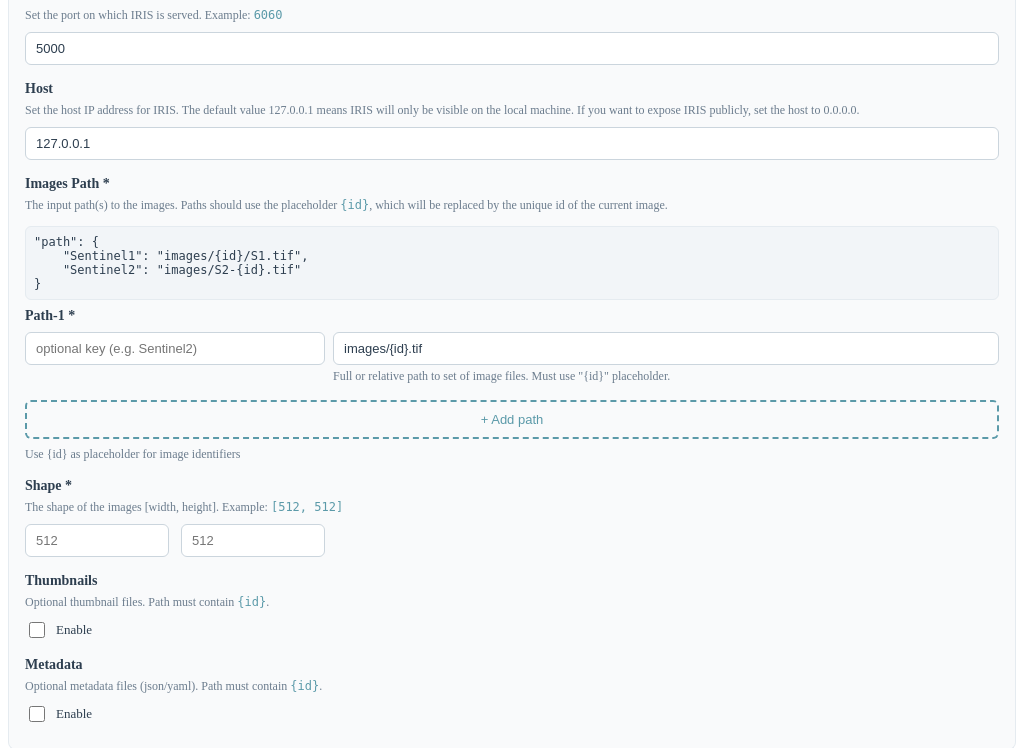
it: GeneralSection › Thumbnails toggle › shows input field when checkbox is checked
(page scrolled)
Expected: the field with placeholder "thumbnails/{id}.png" is not shown
Click the checkbox labelled "Enable" below "Thumbnails" at (37, 630), box [29,622,45,638]
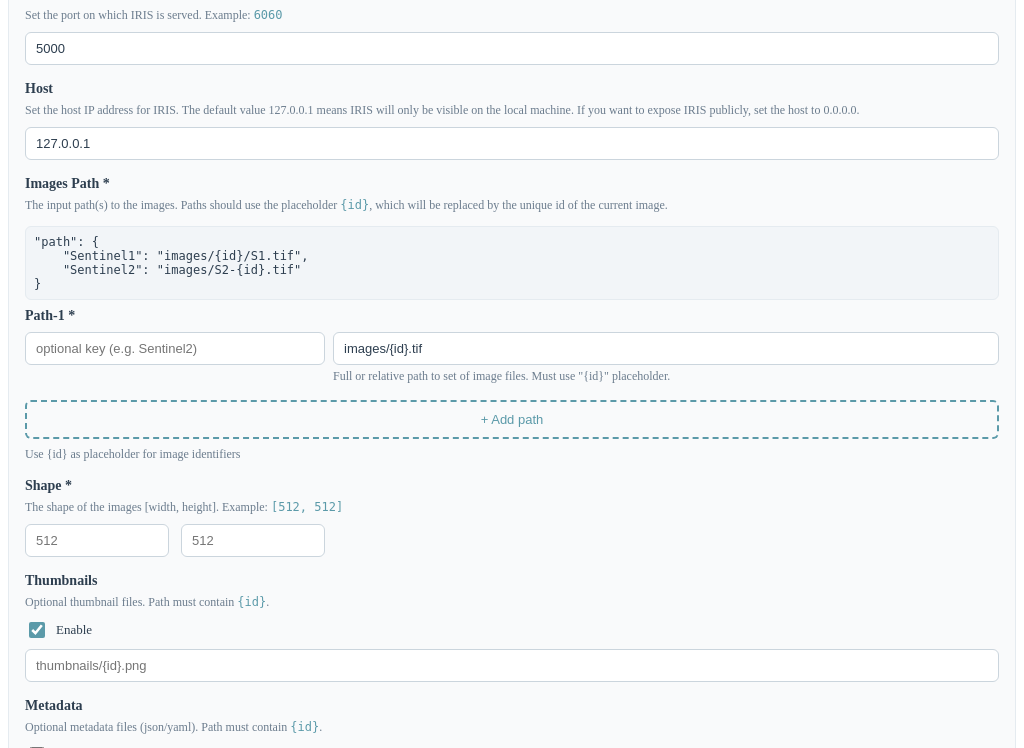
Expected: the field with placeholder "thumbnails/{id}.png" is shown, [25,649,999,682]
